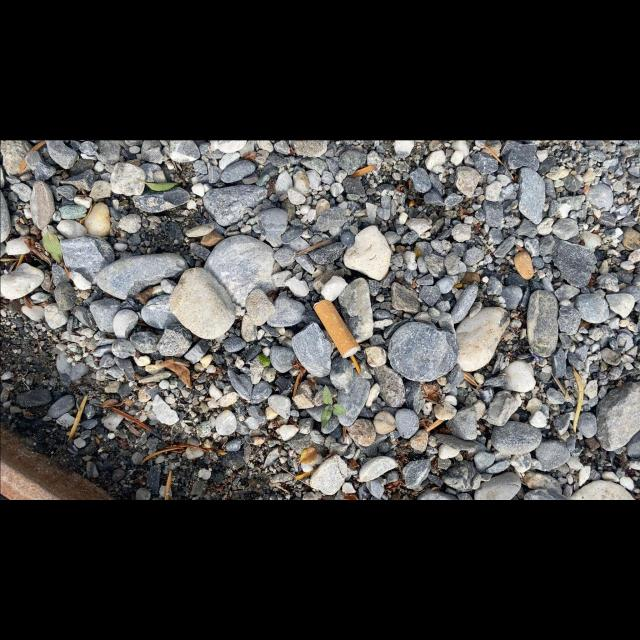cigarette: (312, 298, 360, 359)
